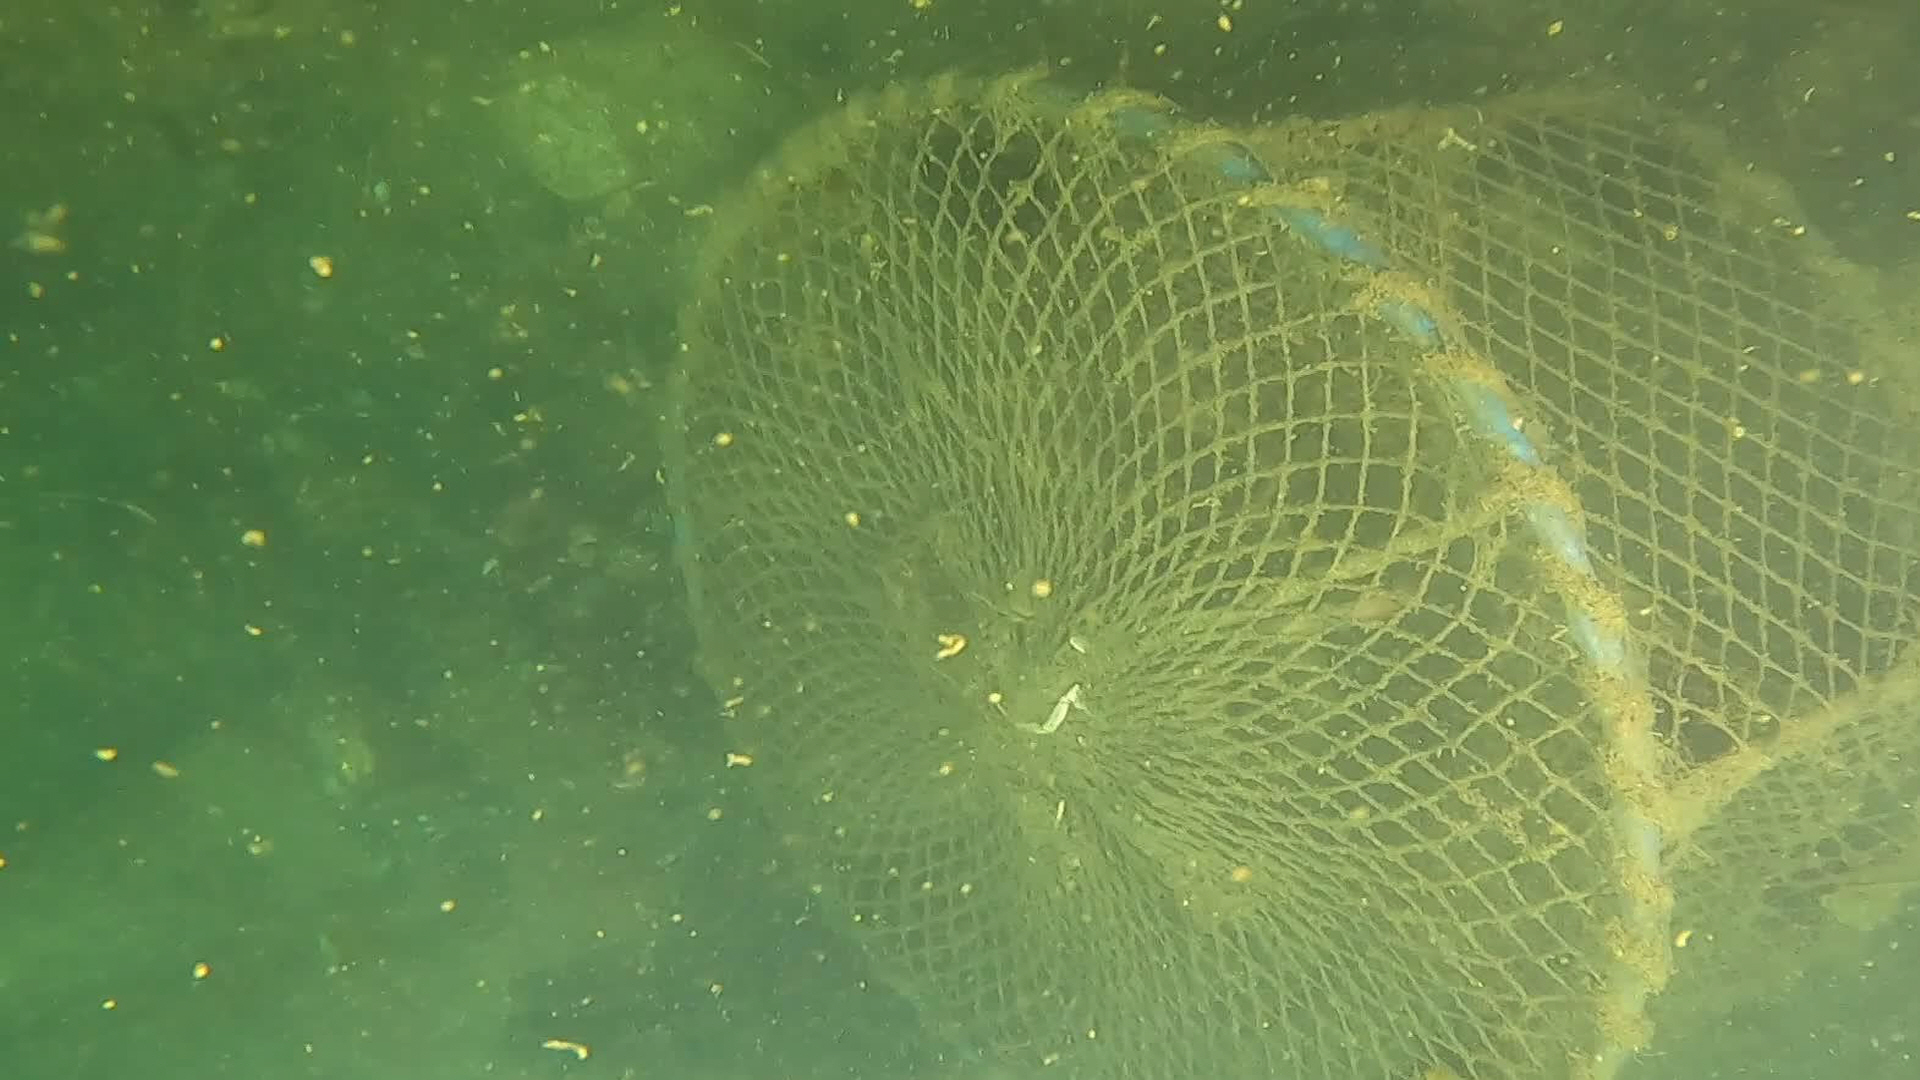circular fish trap: (659, 67, 1920, 1080)
